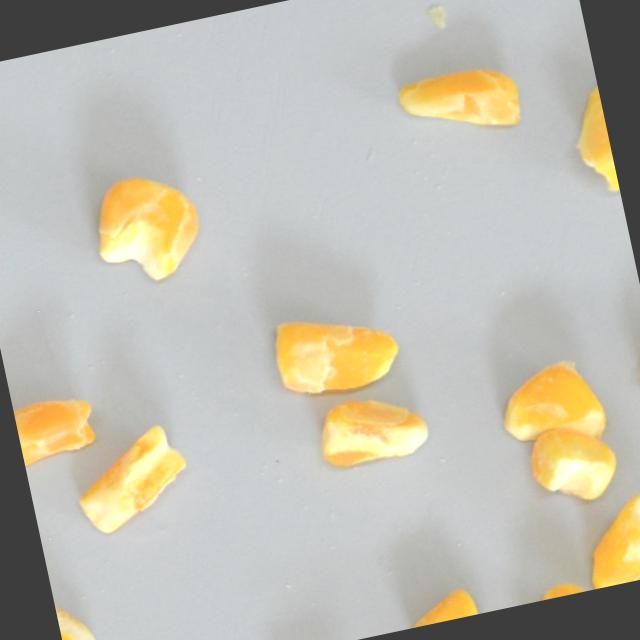dañado: (59, 413, 203, 543), (265, 295, 415, 408), (388, 54, 534, 155), (487, 349, 612, 456), (306, 380, 440, 477), (518, 414, 626, 512), (557, 72, 621, 203), (11, 386, 107, 470), (571, 490, 640, 590), (397, 580, 495, 629), (47, 568, 105, 640), (512, 570, 607, 606), (625, 327, 640, 399)
pelicula: (83, 163, 211, 293)
